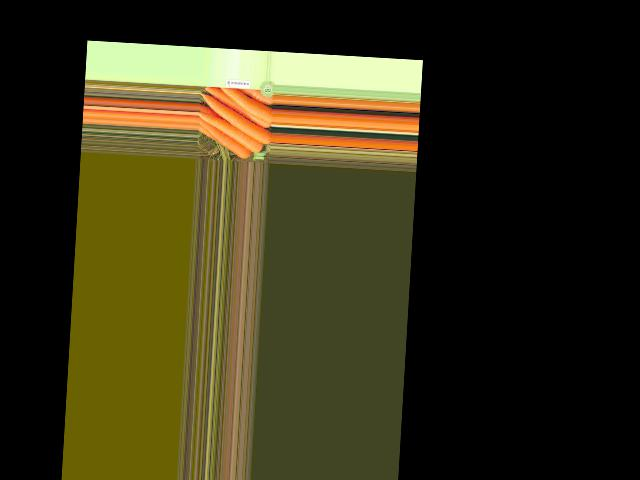carrot: (201, 84, 273, 129)
